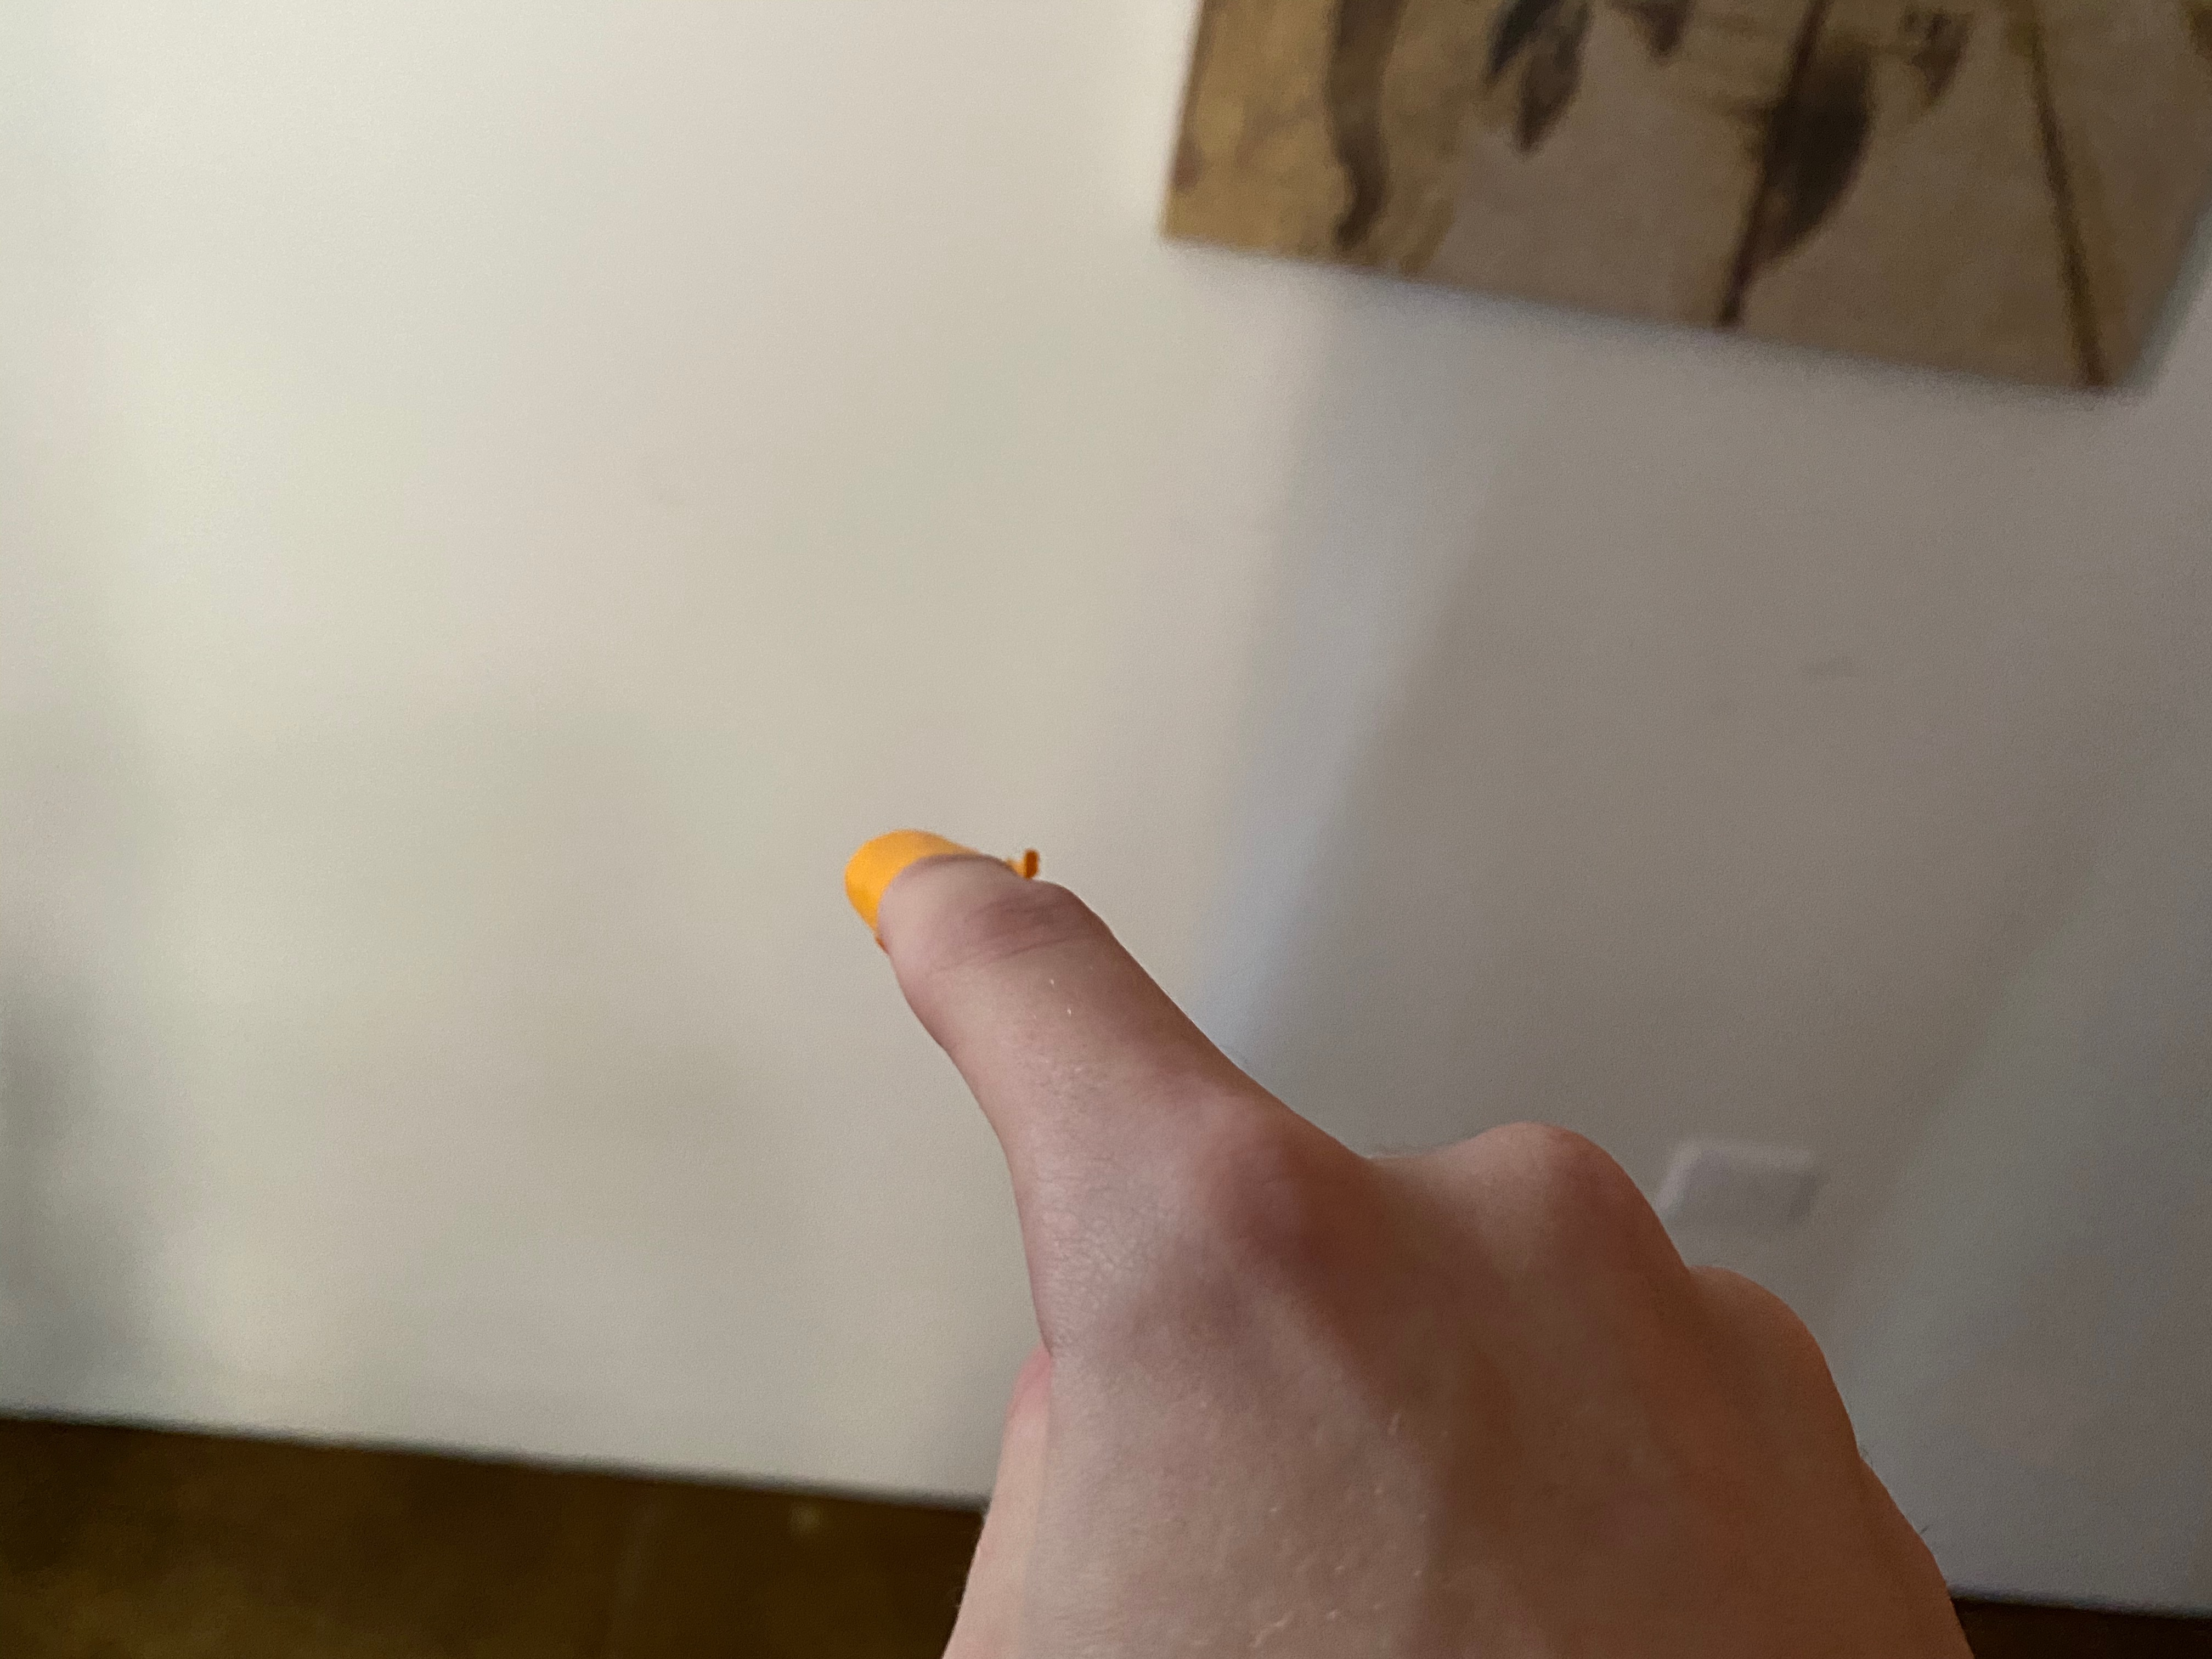fingertip: (826, 802, 1019, 962)
